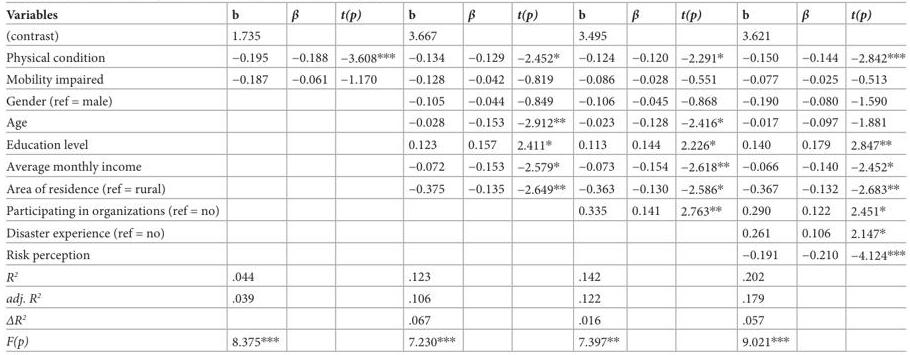table: (5, 4, 905, 350)
table column: (5, 4, 225, 350), (333, 4, 401, 350), (510, 4, 571, 350), (674, 4, 735, 350), (844, 4, 905, 350), (401, 4, 461, 350), (735, 4, 795, 350), (225, 4, 284, 350), (571, 4, 625, 350), (284, 4, 333, 350), (461, 4, 510, 350), (625, 4, 674, 350), (795, 4, 844, 350)
table column header: (5, 4, 905, 24)
table row: (5, 24, 905, 46), (5, 46, 905, 68), (5, 89, 905, 111), (5, 111, 905, 133), (5, 133, 905, 155), (5, 155, 905, 177), (5, 177, 905, 199), (5, 199, 905, 221), (5, 221, 905, 243), (5, 243, 905, 265), (5, 265, 905, 287), (5, 68, 905, 89), (5, 287, 905, 308), (5, 308, 905, 329), (5, 329, 905, 350), (5, 4, 905, 24)
